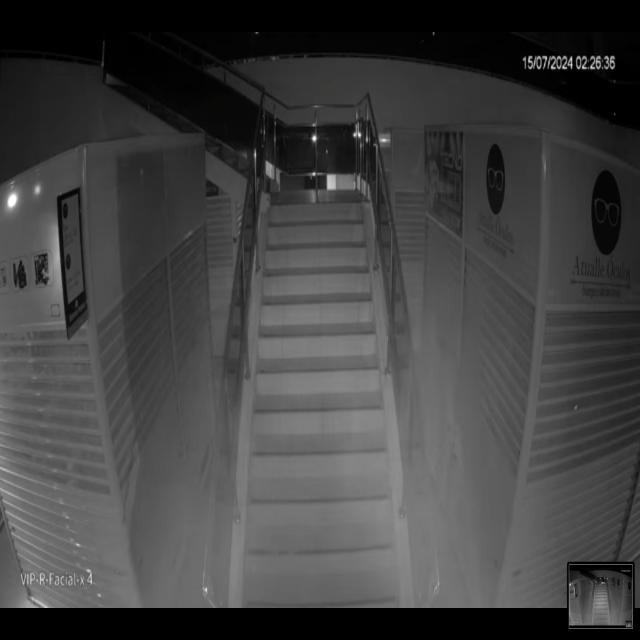Atencao: (166, 277, 510, 601)
